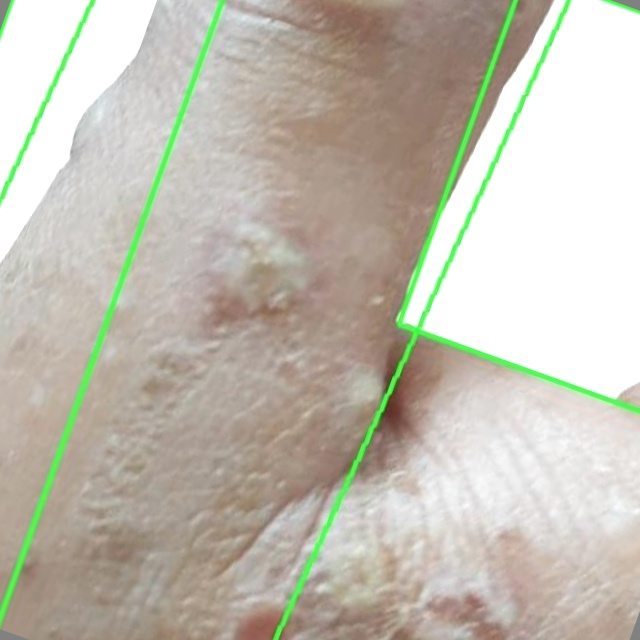Scabies: (0, 0, 567, 639)
